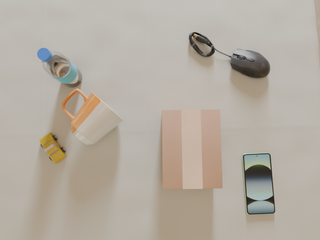bottle: (37, 48, 82, 87)
box: (162, 109, 222, 189)
cup: (61, 89, 123, 145)
mouse: (229, 49, 270, 78)
phone: (242, 153, 275, 215)
toy_car: (40, 133, 66, 163)
